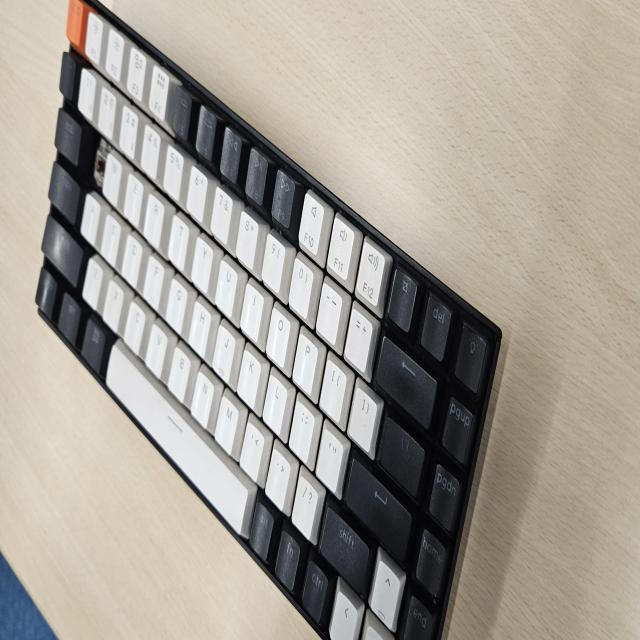C: (91, 142, 105, 188)
